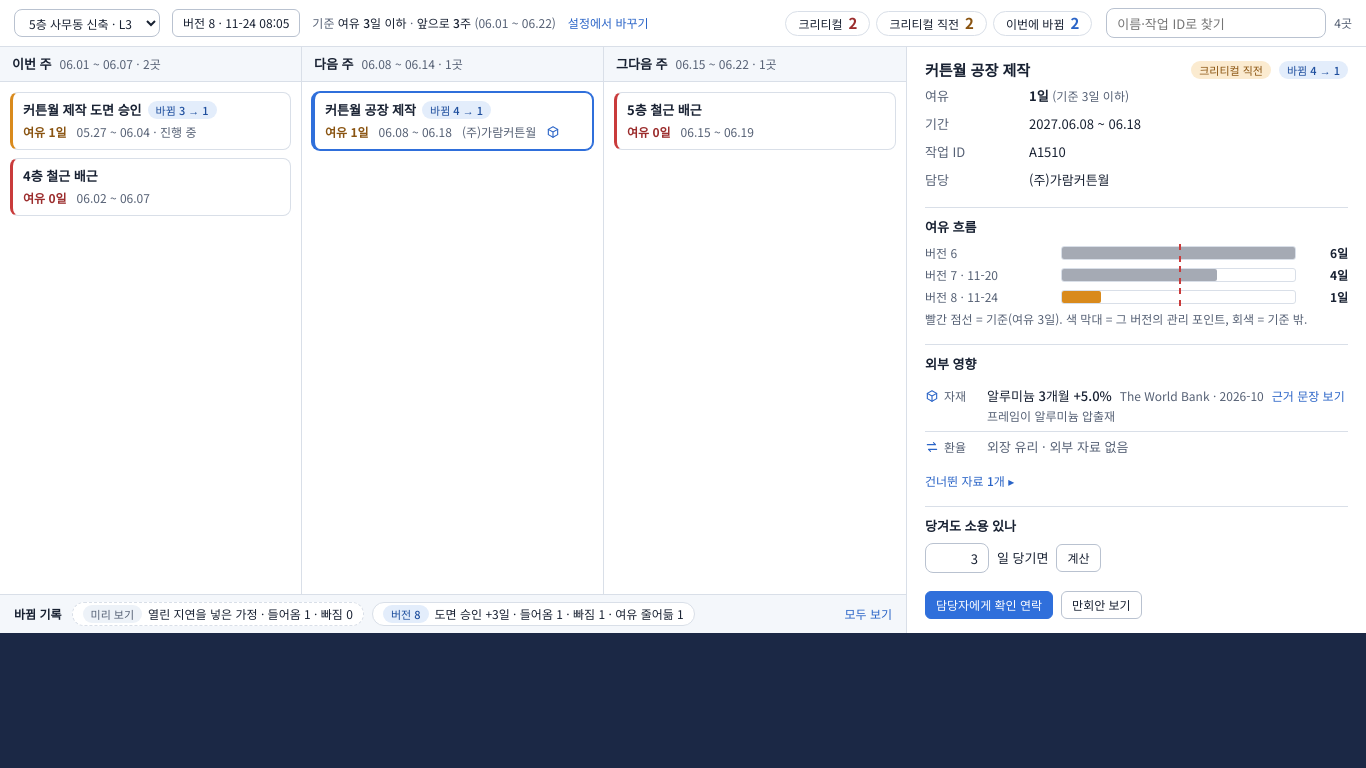
Scenario: the pull result shows how the same pull did before the open delays when the server says so
The image size is (1366, 768).
Click the button "계산": coordinates (1079, 558) x1=1056 y1=544 x2=1101 y2=572
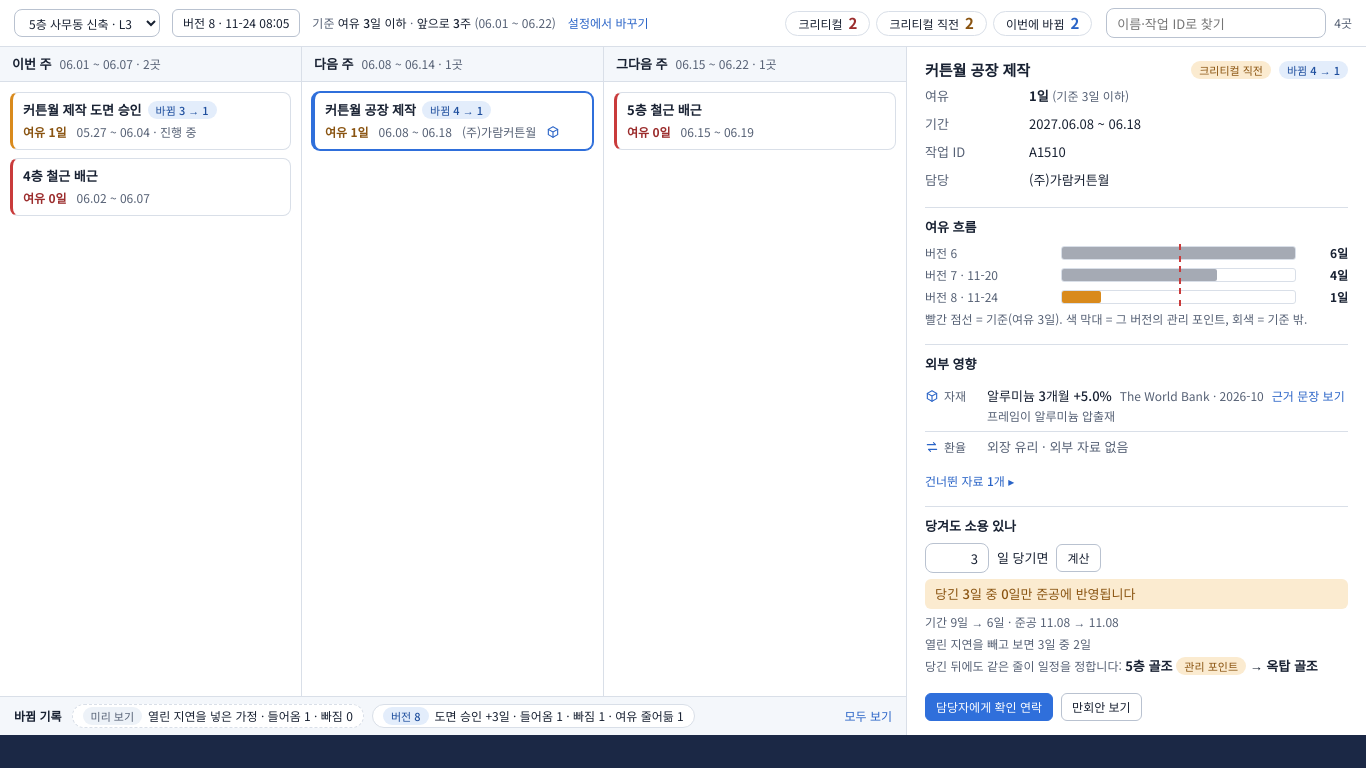
Expected: the text "열린 지연을 빼고 보면 3일 중 2일" is shown, x1=925 y1=635 x2=1091 y2=652
